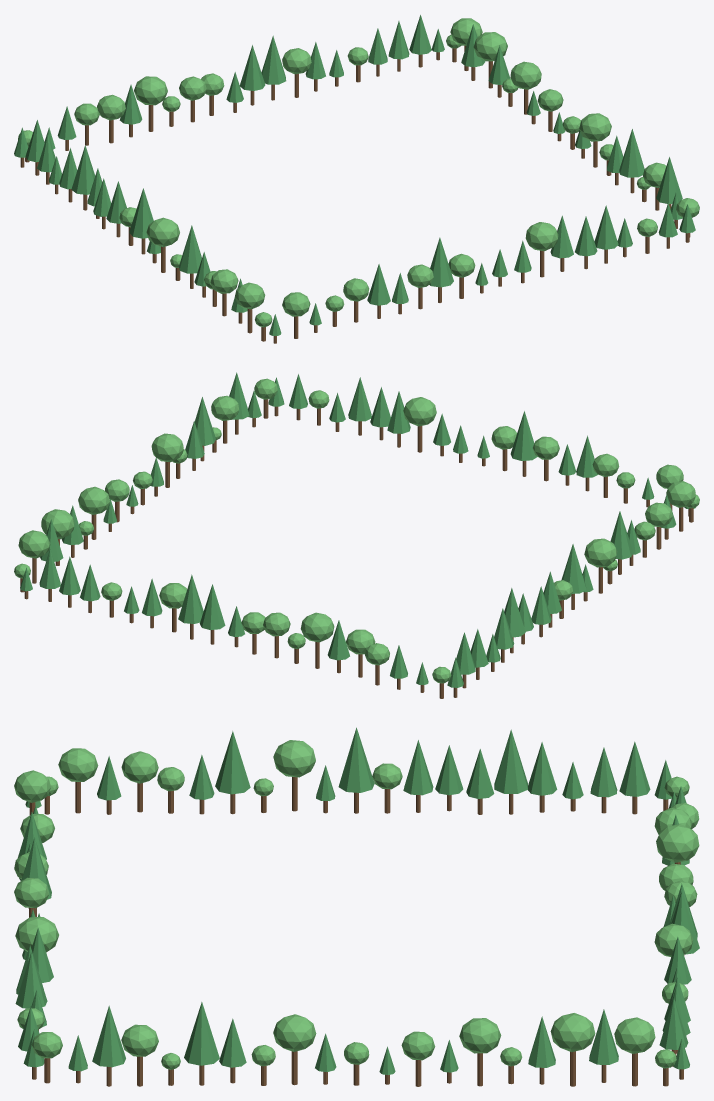
Rendered from BorderTrees.fbx.
3 renders of one model, top to bottom at view 1: azimuth 30°, elevation 25°; view 2: azimuth 150°, elevation 25°; view 3: azimuth 270°, elevation 25°, orthographic. The views are drawn at different scales.
Visible parts, largest first — view 1: RoundFoliage.010, RoundFoliage.005, RoundFoliage.021, RoundFoliage.032, PineFoliage.042, RoundFoliage.027, PineFoliage.019, PineFoliage.004, RoundFoliage.030, PineFoliage.034, PineFoliage.030, PineFoliage.028 (+14 smaller); view 2: RoundFoliage.010, RoundFoliage.005, RoundFoliage.021, PineFoliage.004, RoundFoliage.027, PineFoliage.019, RoundFoliage.033, RoundFoliage.030, RoundFoliage.032, PineFoliage.018, PineFoliage.030, RoundFoliage.017 (+12 smaller); view 3: RoundFoliage.032, PineFoliage.030, RoundFoliage.010, PineFoliage.034, PineFoliage.042, RoundFoliage.021, PineFoliage.028, RoundFoliage.027, RoundFoliage.030, RoundFoliage.033, PineFoliage.041, RoundFoliage.017 (+28 smaller).
Part boxes in pixels (left/top/right/bottom): RoundFoliage.010: left=134, top=76, right=167, bottom=105; RoundFoliage.005: left=525, top=222, right=558, bottom=251; RoundFoliage.021: left=146, top=217, right=179, bottom=247; RoundFoliage.032: left=473, top=32, right=507, bottom=61; PineFoliage.042: left=619, top=129, right=644, bottom=177; RoundFoliage.027: left=579, top=113, right=611, bottom=141; PineFoliage.019: left=261, top=35, right=286, bottom=84; PineFoliage.004: left=429, top=237, right=453, bottom=287; RoundFoliage.030: left=510, top=61, right=541, bottom=89; PineFoliage.034: left=71, top=145, right=95, bottom=194; PineFoliage.030: left=129, top=188, right=153, bottom=238; PineFoliage.028: left=179, top=225, right=201, bottom=273; RoundFoliage.010: left=300, top=612, right=334, bottom=642; RoundFoliage.005: left=403, top=397, right=436, bottom=426; RoundFoliage.021: left=584, top=538, right=617, bottom=567; PineFoliage.004: left=510, top=411, right=537, bottom=460; RoundFoliage.027: left=151, top=433, right=183, bottom=462; PineFoliage.019: left=178, top=574, right=203, bottom=623; RoundFoliage.033: left=18, top=530, right=50, bottom=558; RoundFoliage.030: left=78, top=486, right=109, bottom=514; RoundFoliage.032: left=41, top=509, right=74, bottom=539; PineFoliage.018: left=199, top=584, right=225, bottom=630; PineFoliage.030: left=561, top=544, right=586, bottom=593; RoundFoliage.017: left=666, top=481, right=695, bottom=507; RoundFoliage.032: left=550, top=1013, right=595, bottom=1052; PineFoliage.030: left=338, top=727, right=374, bottom=792; RoundFoliage.010: left=656, top=824, right=699, bottom=862; PineFoliage.034: left=494, top=729, right=527, bottom=793; PineFoliage.042: left=184, top=1002, right=219, bottom=1065; RoundFoliage.021: left=273, top=740, right=315, bottom=777; PineFoliage.028: left=215, top=731, right=250, bottom=794; RoundFoliage.027: left=273, top=1014, right=316, bottom=1051; RoundFoliage.030: left=459, top=1018, right=501, bottom=1053; RoundFoliage.033: left=614, top=1017, right=655, bottom=1053; PineFoliage.041: left=92, top=1005, right=125, bottom=1067; RoundFoliage.017: left=58, top=748, right=98, bottom=781.
Bounding box in the file's own units: 56.22 × 7.64 × 55.46.
